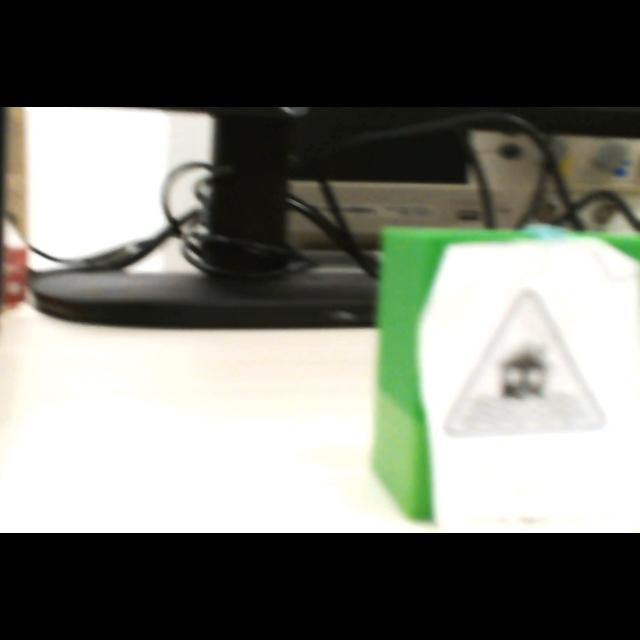Tsunami: (445, 290, 604, 436)
